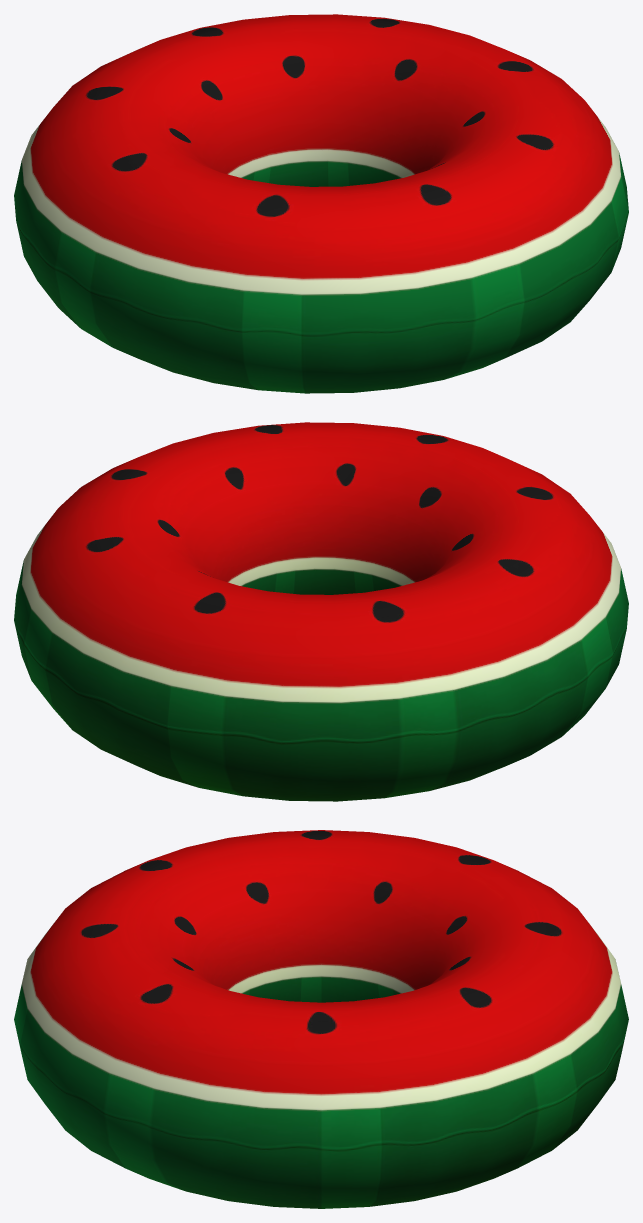
Rendered from swimming-ring-watermelon.fbx.
The picture shows the model from 3 angles, top to bottom: view 1: azimuth 30°, elevation 25°; view 2: azimuth 150°, elevation 25°; view 3: azimuth 270°, elevation 25°; orthographic projection.
Visible parts, largest first — view 1: SwimmingRingWatermelon_SwimmingRingWatermelon_0; view 2: SwimmingRingWatermelon_SwimmingRingWatermelon_0; view 3: SwimmingRingWatermelon_SwimmingRingWatermelon_0.
Boxes of the visible parts, left/top/right/bottom form: SwimmingRingWatermelon_SwimmingRingWatermelon_0: left=14, top=14, right=628, bottom=393; SwimmingRingWatermelon_SwimmingRingWatermelon_0: left=14, top=422, right=628, bottom=801; SwimmingRingWatermelon_SwimmingRingWatermelon_0: left=14, top=830, right=628, bottom=1208.
Size of the model in its own units: 35021 by 11760 by 35021.
